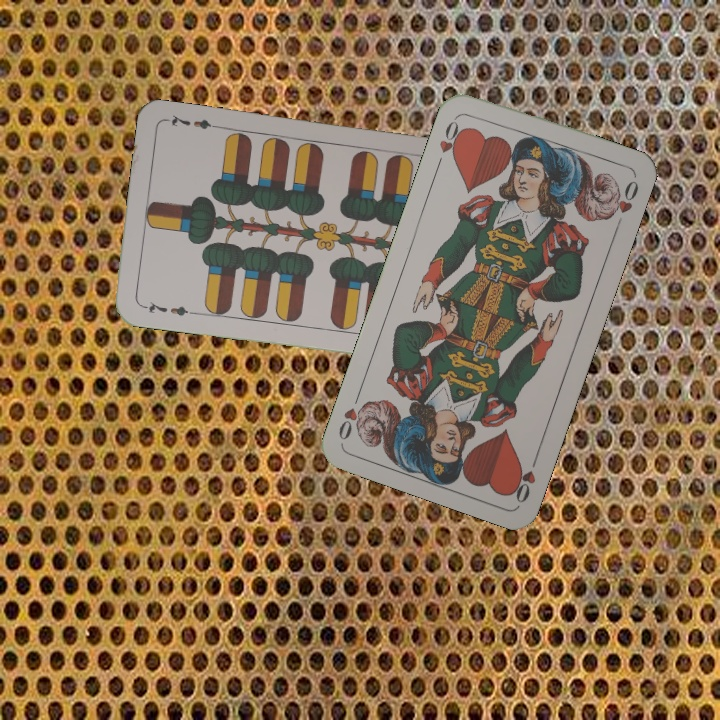E7: (138, 297, 197, 319)
HO: (507, 448, 542, 506), (433, 112, 468, 169)
